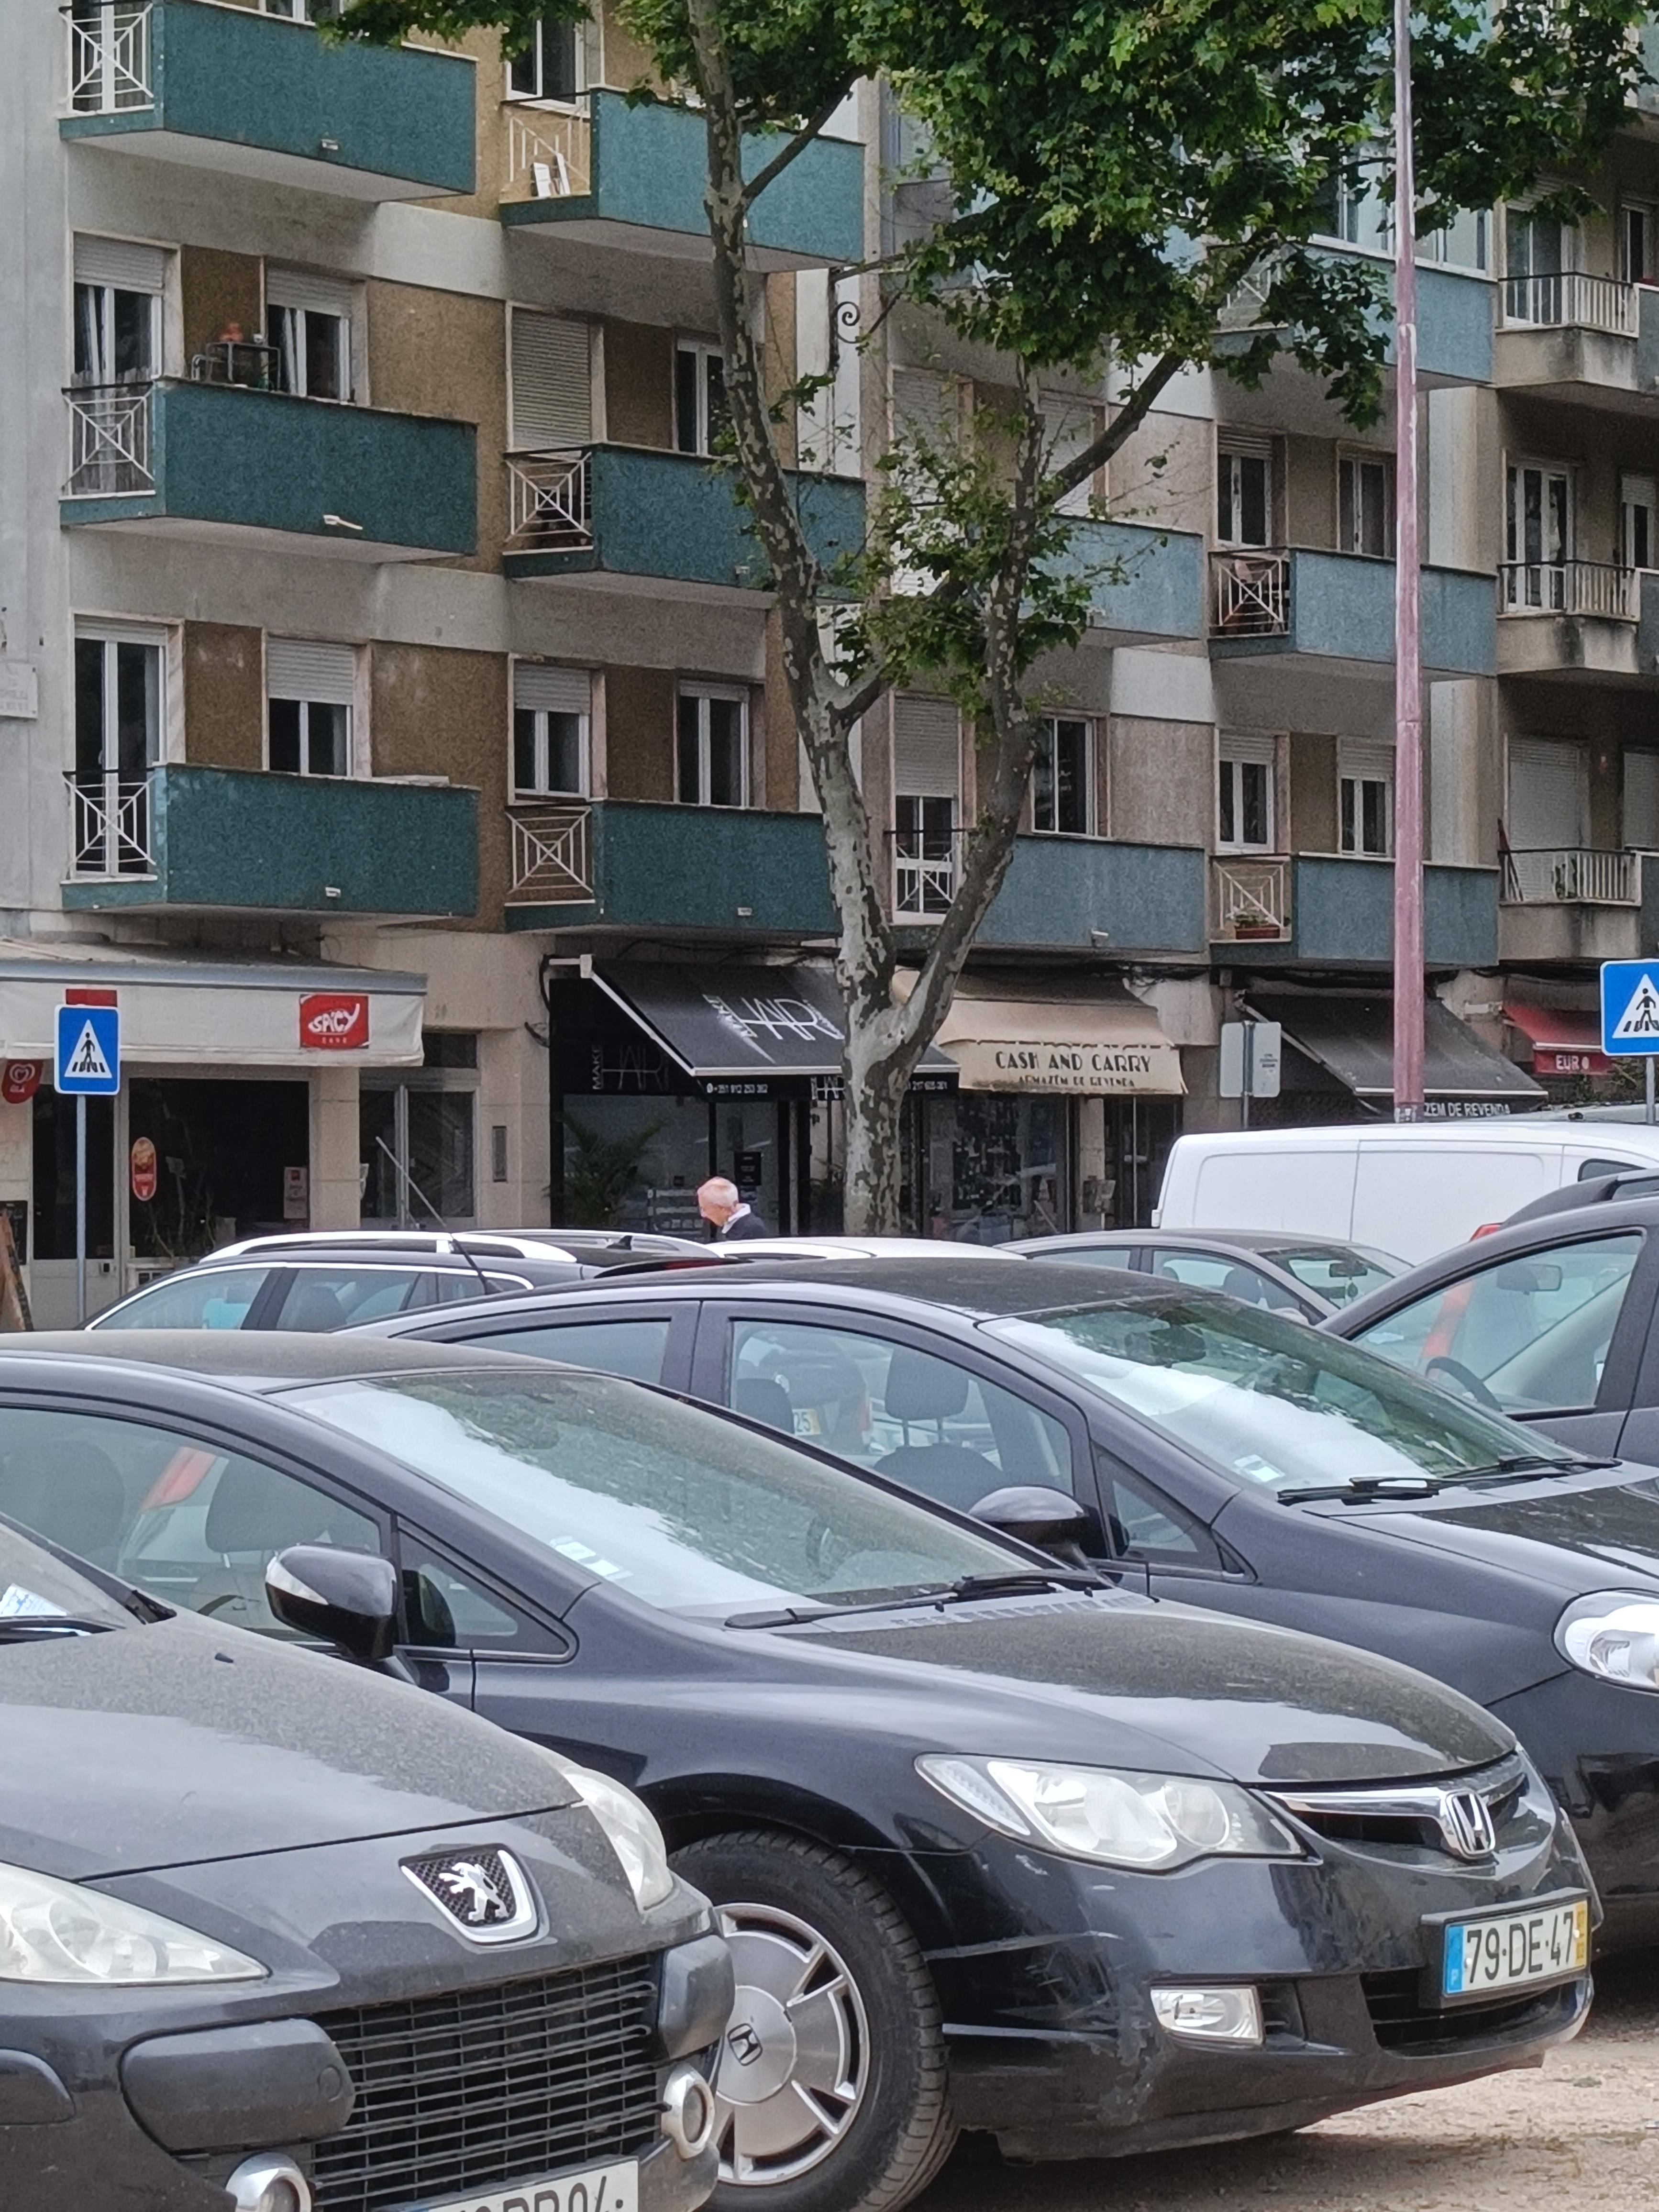passagem para peoes: (66, 1000, 124, 1120), (1593, 967, 1659, 1066)
